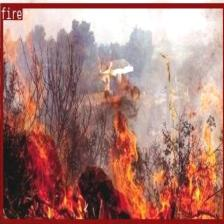fire: (0, 2, 224, 224)
